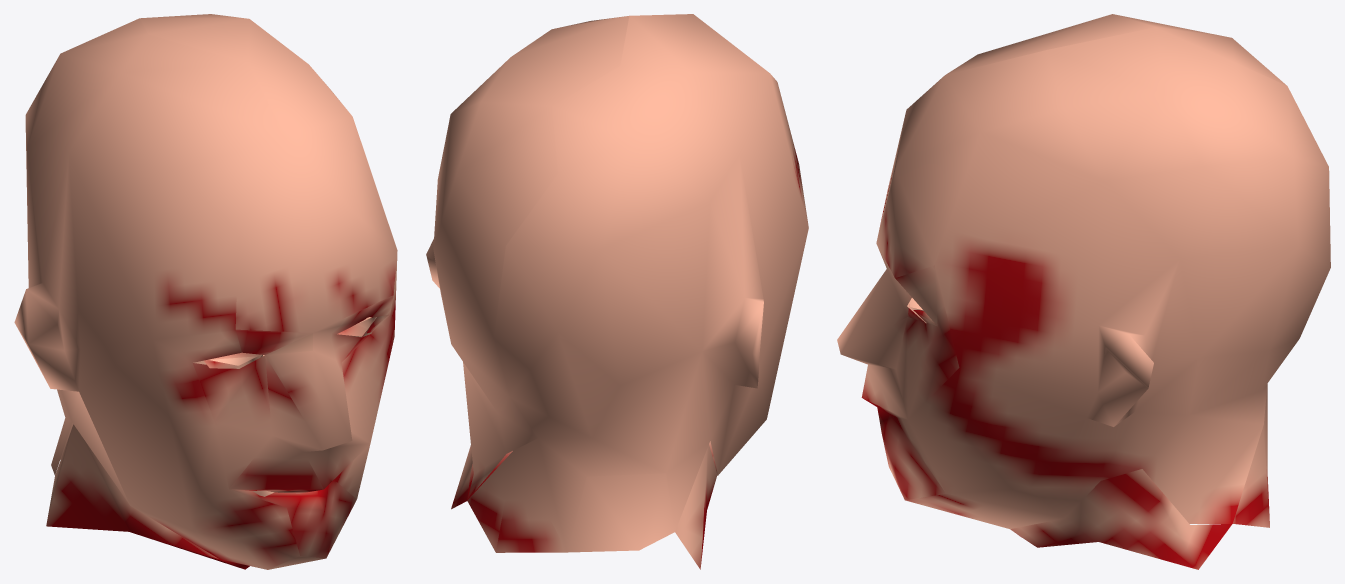
File: JohnHead.glb
3 renders of one model, left to right at view 1: azimuth 30°, elevation 25°; view 2: azimuth 150°, elevation 25°; view 3: azimuth 270°, elevation 25°, orthographic.
Parts seen in each view (by area): view 1: exportsMesh; view 2: exportsMesh; view 3: exportsMesh.
Part boxes in pixels (bbox=[...]): exportsMesh: bbox=[14, 14, 397, 569]; exportsMesh: bbox=[426, 14, 808, 569]; exportsMesh: bbox=[837, 14, 1330, 569].
Size of the model in its own units: 0.185 by 0.2641 by 0.239.
1 material, 1 textured.
